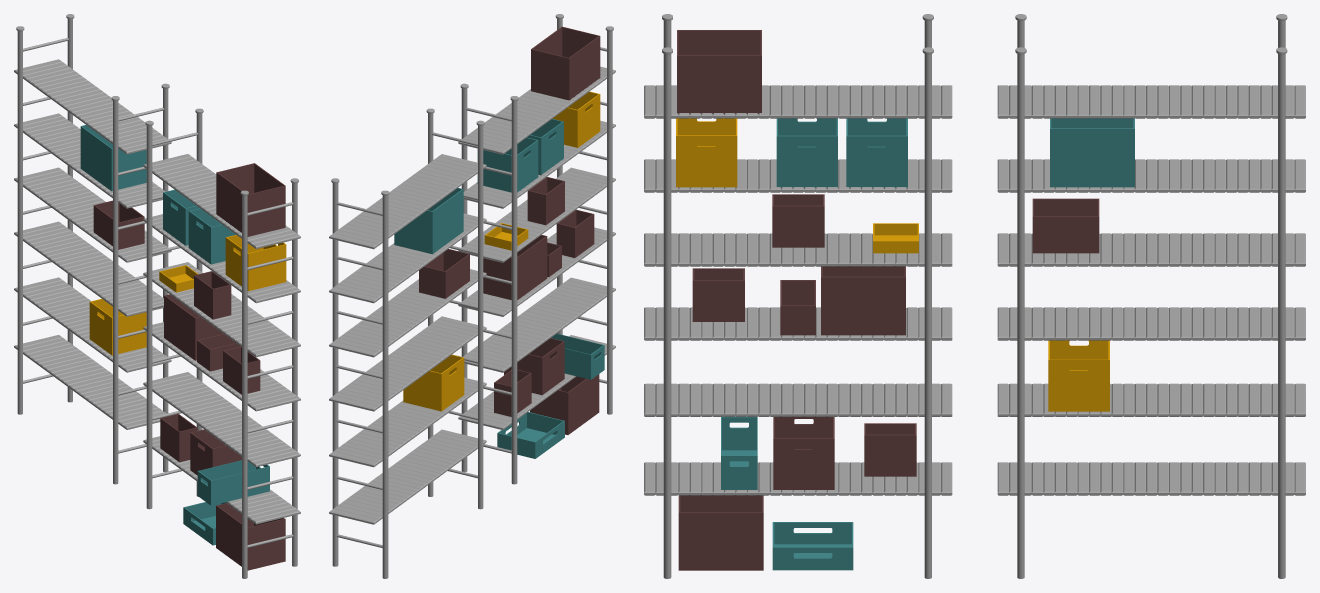
Rendered from BoxShelves01.fbx.
3 views of the same model, side by side, from view 1: azimuth 30°, elevation 25°; view 2: azimuth 150°, elevation 25°; view 3: azimuth 270°, elevation 25° (orthographic). The views are drawn at different scales.
Visible parts, largest first — view 1: BoxShelves01; view 2: BoxShelves01; view 3: BoxShelves01.
Part boxes in pixels (bbox=[...]): BoxShelves01: bbox=[14, 14, 300, 578]; BoxShelves01: bbox=[329, 14, 615, 578]; BoxShelves01: bbox=[644, 14, 1305, 578].
Size of the model in its own units: 39.89 by 217 by 247.
